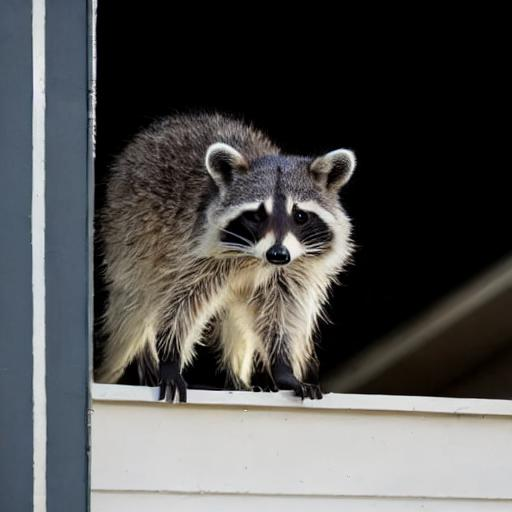raccoon: (98, 103, 362, 392)
